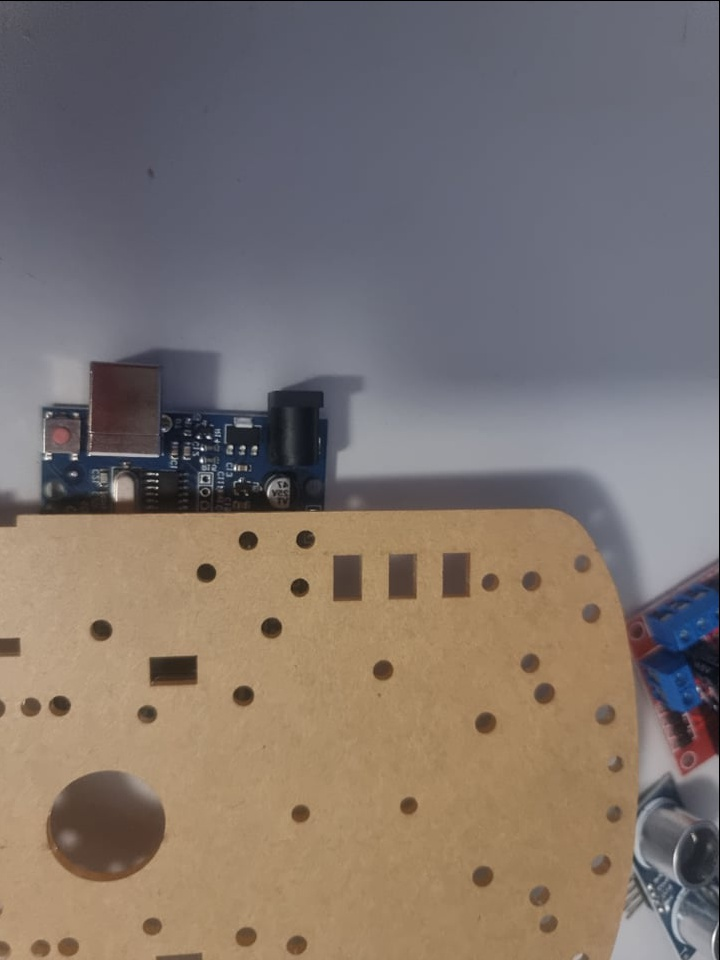UNO R3: (35, 351, 349, 520)
